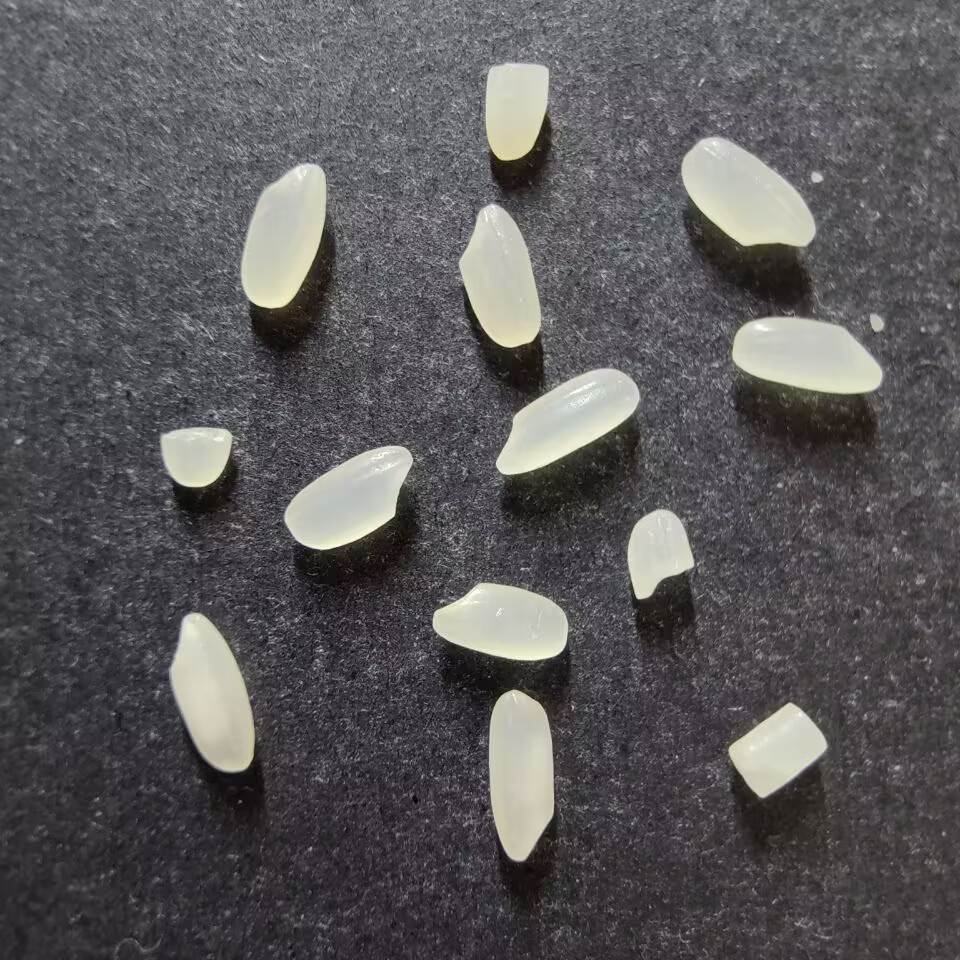broken: (727, 702, 828, 798), (483, 62, 549, 161), (626, 509, 694, 599), (158, 426, 233, 488)
rice: (494, 367, 640, 476), (680, 135, 815, 249), (168, 611, 255, 773), (283, 445, 414, 550), (240, 162, 326, 308), (457, 204, 541, 348), (730, 316, 883, 394), (487, 689, 555, 862), (430, 582, 568, 661)
